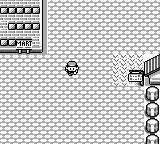leer: (129, 70, 143, 86)
main: (65, 61, 79, 76)
no-caminable: (0, 1, 43, 53), (145, 86, 159, 143), (145, 55, 159, 85)
